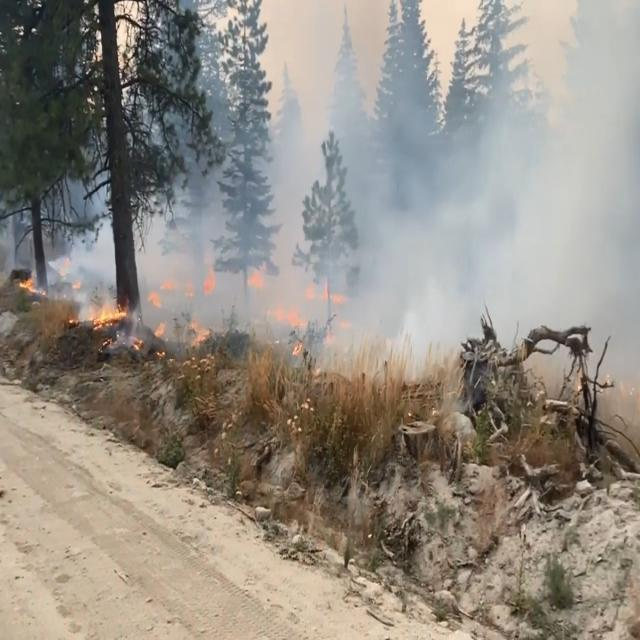Fire: (77, 276, 318, 364)
